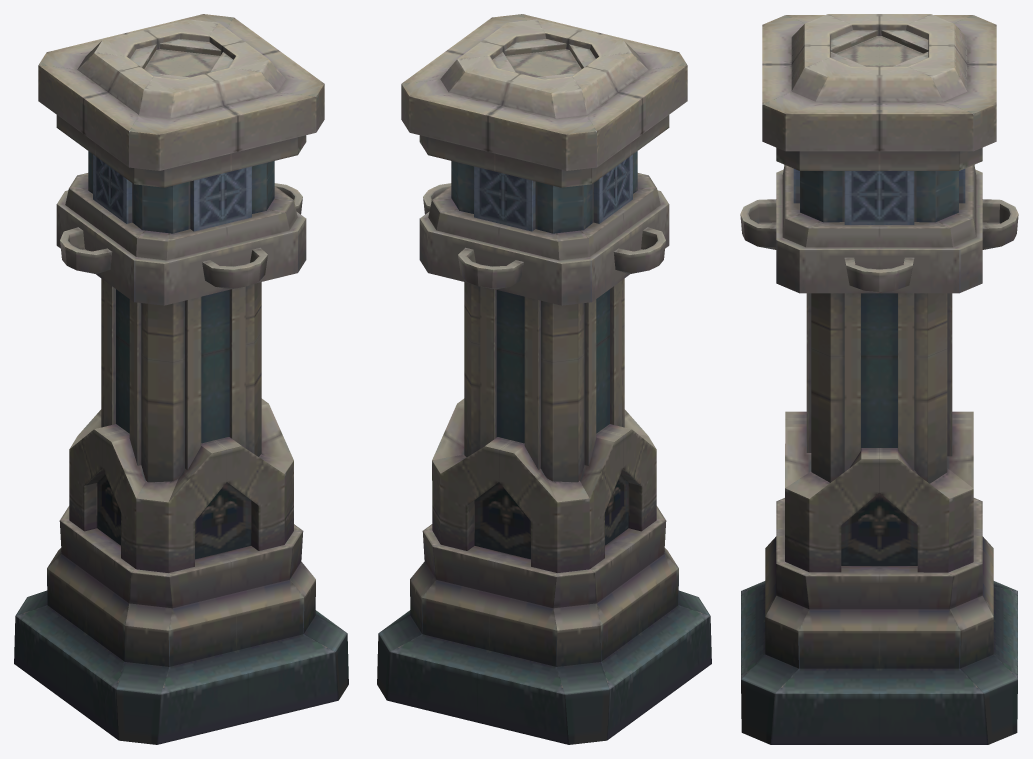
File: S_Build_City078.FBX
3 views of the same model, side by side, from view 1: azimuth 30°, elevation 25°; view 2: azimuth 150°, elevation 25°; view 3: azimuth 270°, elevation 25° (orthographic). The views are drawn at different scales.
Visible parts, largest first — view 1: S_Build_City078; view 2: S_Build_City078; view 3: S_Build_City078.
Boxes of the visible parts, box(x1,y1,x2,y2) form: S_Build_City078: box(14, 14, 348, 744); S_Build_City078: box(377, 14, 711, 744); S_Build_City078: box(740, 14, 1018, 744).
Bounding box in the file's own units: 43.16 × 110 × 43.16.
